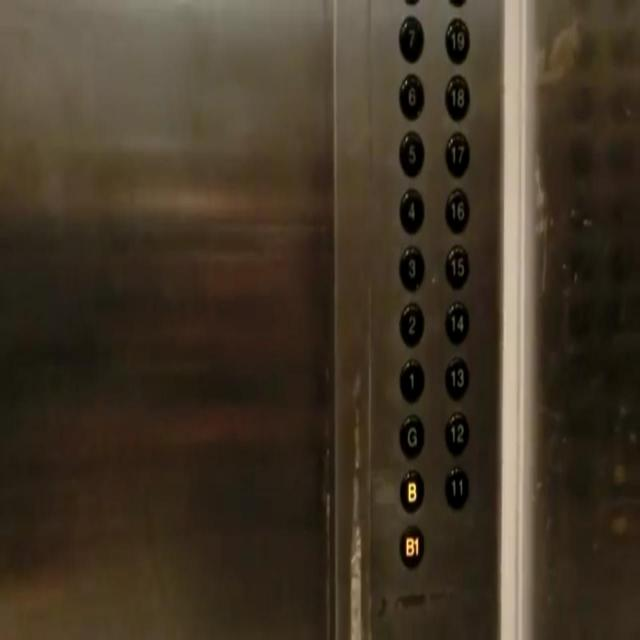1: (398, 357, 424, 402)
11: (444, 465, 468, 510)
12: (443, 410, 469, 455)
13: (443, 354, 469, 401)
14: (445, 300, 469, 345)
15: (445, 243, 469, 290)
16: (445, 187, 469, 234)
17: (444, 130, 470, 178)
18: (444, 73, 470, 121)
19: (444, 16, 470, 65)
2: (398, 300, 424, 346)
3: (398, 244, 424, 292)
4: (398, 186, 424, 236)
5: (398, 128, 424, 178)
6: (398, 71, 424, 121)
7: (398, 14, 424, 63)
B: (399, 468, 424, 513)
B1: (399, 524, 424, 568)
G: (398, 414, 424, 459)
